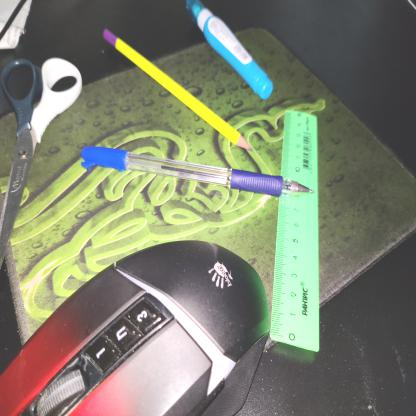pen: (78, 128, 332, 208)
